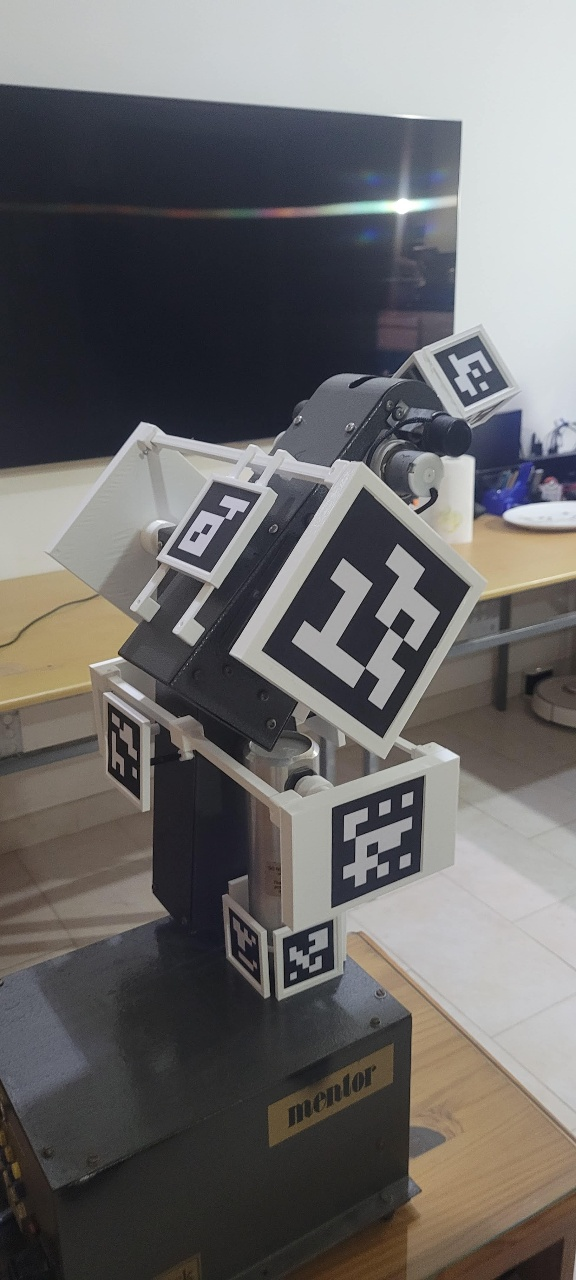Robot: (112, 214, 458, 964)
